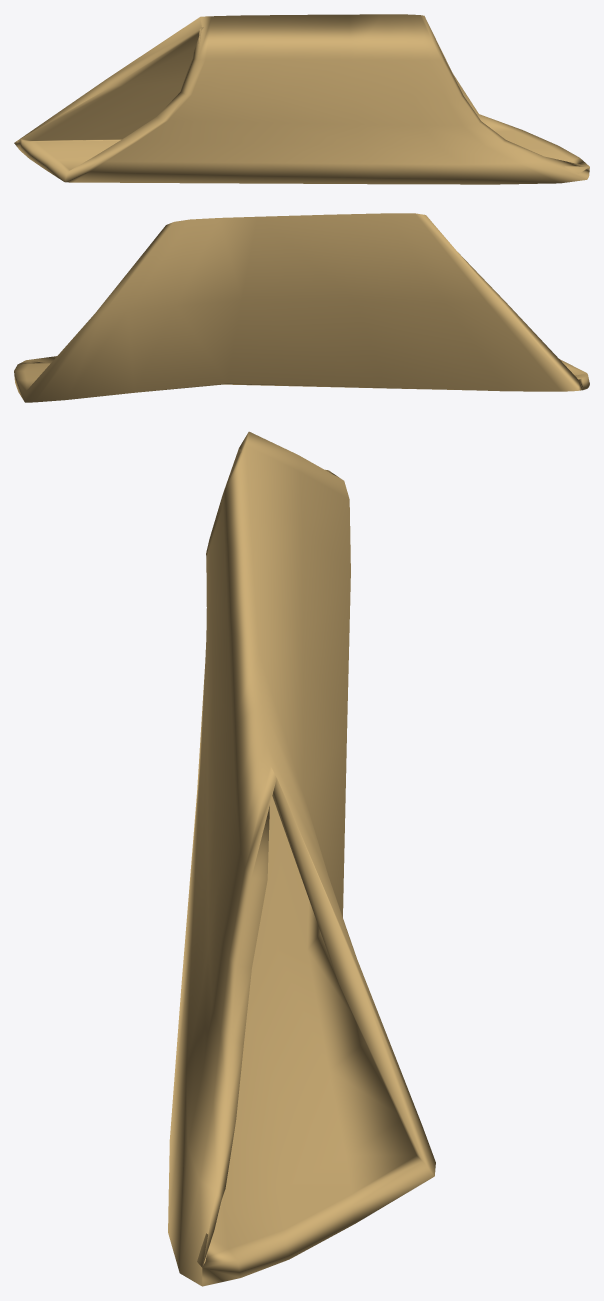
3 renders of one model, top to bottom at view 1: azimuth 30°, elevation 25°; view 2: azimuth 150°, elevation 25°; view 3: azimuth 270°, elevation 25°, orthographic. The views are drawn at different scales.
Parts seen in each view (by area): view 1: 左侧膝横韧带; view 2: 左侧膝横韧带; view 3: 左侧膝横韧带.
Boxes of the visible parts, bbox=[...] form: 左侧膝横韧带: bbox=[14, 14, 589, 184]; 左侧膝横韧带: bbox=[14, 213, 589, 402]; 左侧膝横韧带: bbox=[168, 431, 435, 1286].
Bounding box in the file's own units: 0.042 × 0.0181 × 0.00901.
